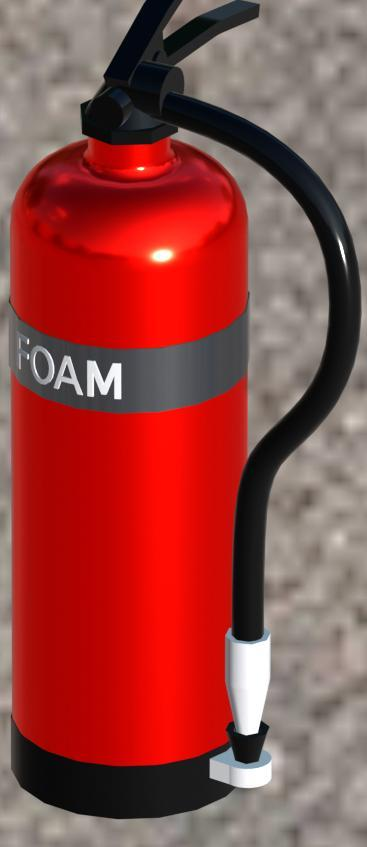Fire Extinguisher: (10, 13, 367, 825)
